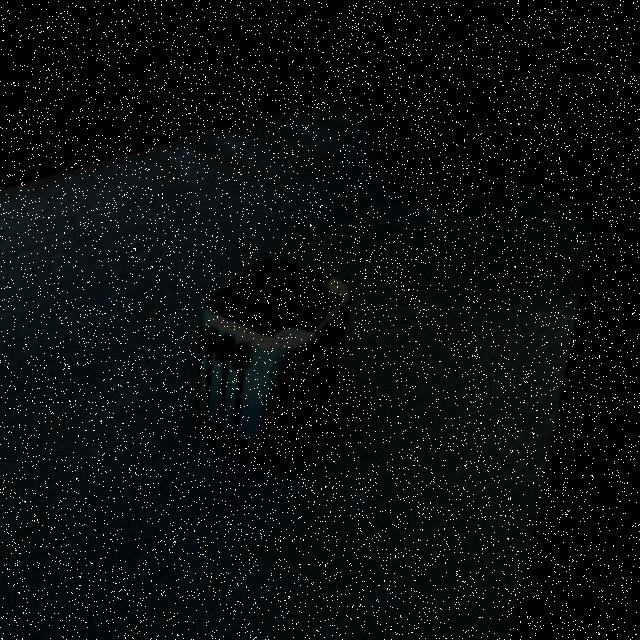adapter: (190, 255, 372, 466)
